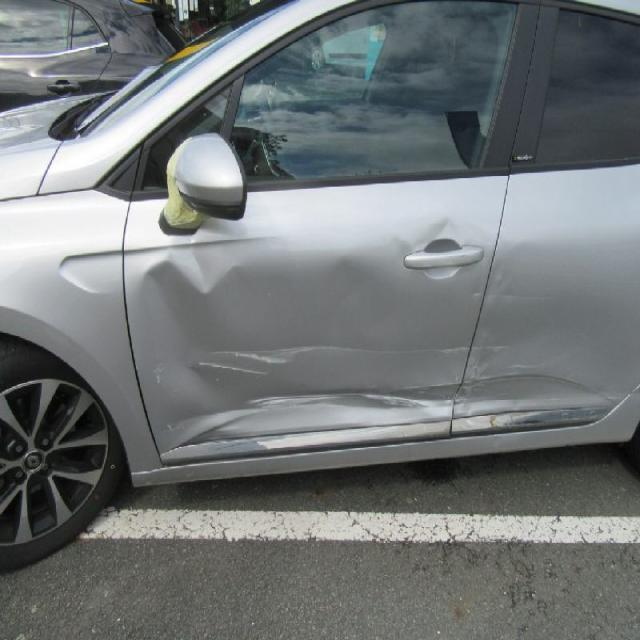porte-avant: (121, 1, 541, 476)
